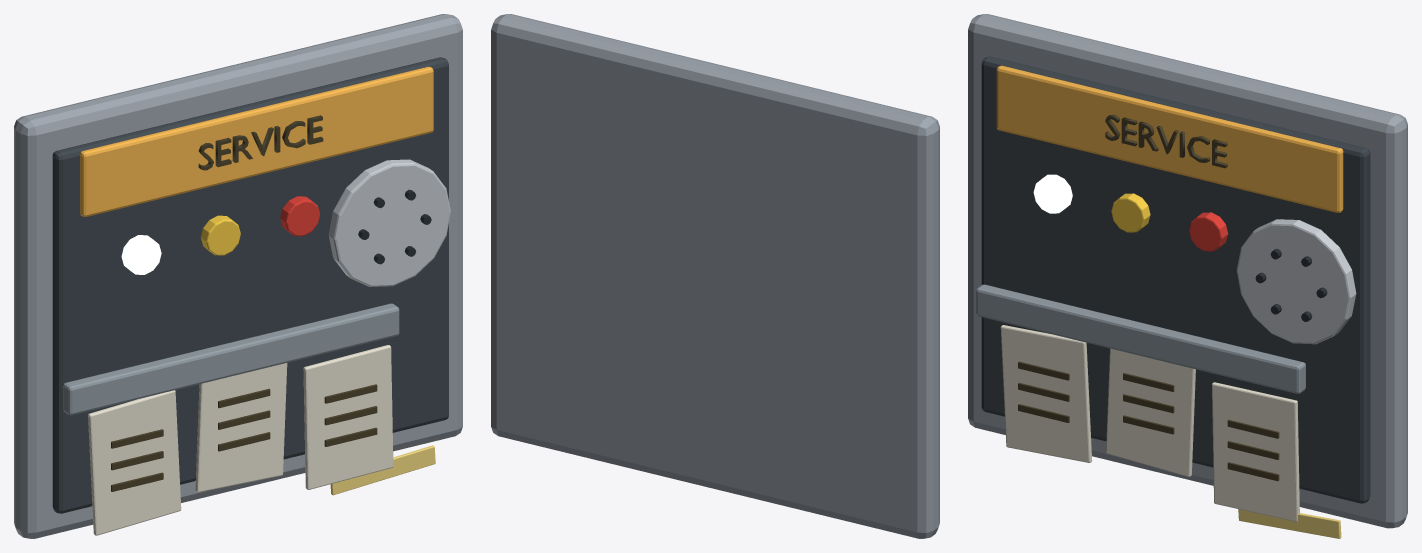
Rendered from decor_chem_service_board.glb.
3 renders of one model, left to right at view 1: azimuth 30°, elevation 25°; view 2: azimuth 150°, elevation 25°; view 3: azimuth 330°, elevation 25°, orthographic. The views are drawn at different scales.
Visible parts, largest first — view 1: DEC_ChemServiceBoard__Board_Face, DEC_ChemServiceBoard__Board_Back, DEC_ChemServiceBoard__Service_Header, DEC_ChemServiceBoard__Ticket_Rail, DEC_ChemServiceBoard__Intercom, DEC_ChemServiceBoard__Order_Ticket_3, DEC_ChemServiceBoard__Order_Ticket_1, DEC_ChemServiceBoard__Order_Ticket_2, DEC_ChemServiceBoard__Service_Title, DEC_ChemServiceBoard__Tape_Strip, DEC_ChemServiceBoard__Service_Light_2, DEC_ChemServiceBoard__Service_Light_3 (+1 smaller); view 2: DEC_ChemServiceBoard__Board_Back; view 3: DEC_ChemServiceBoard__Board_Face, DEC_ChemServiceBoard__Board_Back, DEC_ChemServiceBoard__Service_Header, DEC_ChemServiceBoard__Ticket_Rail, DEC_ChemServiceBoard__Intercom, DEC_ChemServiceBoard__Order_Ticket_3, DEC_ChemServiceBoard__Order_Ticket_1, DEC_ChemServiceBoard__Order_Ticket_2, DEC_ChemServiceBoard__Service_Title, DEC_ChemServiceBoard__Tape_Strip, DEC_ChemServiceBoard__Service_Light_1, DEC_ChemServiceBoard__Service_Light_2 (+1 smaller).
Part boxes in pixels (bbox=[...]): DEC_ChemServiceBoard__Board_Face: bbox=[52, 57, 448, 513]; DEC_ChemServiceBoard__Board_Back: bbox=[14, 14, 462, 538]; DEC_ChemServiceBoard__Service_Header: bbox=[80, 66, 433, 216]; DEC_ChemServiceBoard__Ticket_Rail: bbox=[63, 303, 399, 415]; DEC_ChemServiceBoard__Intercom: bbox=[328, 159, 450, 286]; DEC_ChemServiceBoard__Order_Ticket_3: bbox=[303, 345, 393, 489]; DEC_ChemServiceBoard__Order_Ticket_1: bbox=[88, 390, 181, 535]; DEC_ChemServiceBoard__Order_Ticket_2: bbox=[195, 363, 287, 492]; DEC_ChemServiceBoard__Service_Title: bbox=[198, 115, 323, 170]; DEC_ChemServiceBoard__Tape_Strip: bbox=[330, 445, 435, 495]; DEC_ChemServiceBoard__Service_Light_2: bbox=[201, 215, 240, 255]; DEC_ChemServiceBoard__Service_Light_3: bbox=[280, 196, 320, 236]; DEC_ChemServiceBoard__Board_Back: bbox=[491, 14, 939, 538]; DEC_ChemServiceBoard__Board_Face: bbox=[981, 56, 1370, 503]; DEC_ChemServiceBoard__Board_Back: bbox=[968, 14, 1407, 528]; DEC_ChemServiceBoard__Service_Header: bbox=[996, 65, 1343, 212]; DEC_ChemServiceBoard__Ticket_Rail: bbox=[976, 284, 1305, 393]; DEC_ChemServiceBoard__Intercom: bbox=[1236, 219, 1356, 344]; DEC_ChemServiceBoard__Order_Ticket_3: bbox=[1212, 382, 1299, 521]; DEC_ChemServiceBoard__Order_Ticket_1: bbox=[1000, 325, 1092, 462]; DEC_ChemServiceBoard__Order_Ticket_2: bbox=[1106, 348, 1195, 476]; DEC_ChemServiceBoard__Service_Title: bbox=[1105, 114, 1227, 168]; DEC_ChemServiceBoard__Tape_Strip: bbox=[1238, 509, 1341, 538]; DEC_ChemServiceBoard__Service_Light_1: bbox=[1033, 174, 1072, 213]; DEC_ChemServiceBoard__Service_Light_2: bbox=[1111, 193, 1150, 232].
Size of the model in its own units: 1.28 by 1.19 by 0.1785.
